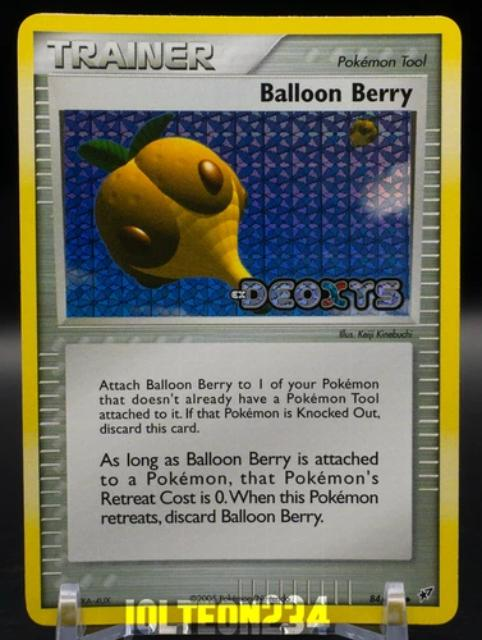Card: (9, 7, 467, 630)
Name: (255, 76, 423, 109)
